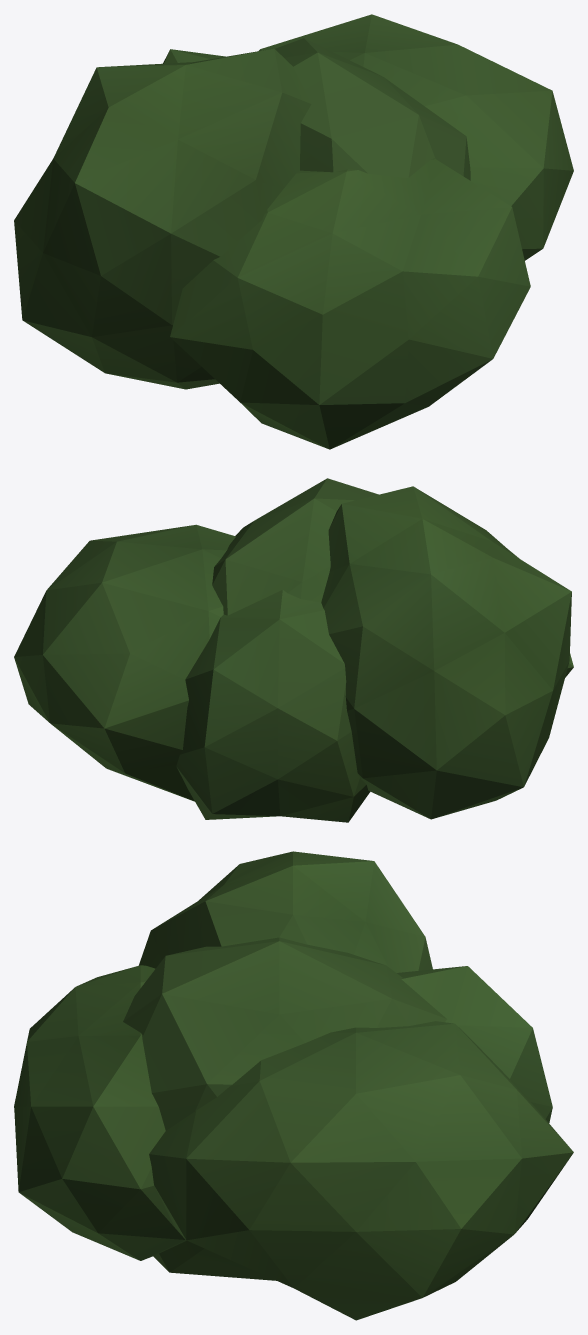
Rendered from veg_buske_0.glb.
3 renders of one model, top to bottom at view 1: azimuth 30°, elevation 25°; view 2: azimuth 150°, elevation 25°; view 3: azimuth 270°, elevation 25°, orthographic. The views are drawn at different scales.
Parts seen in each view (by area): view 1: geometry_0; view 2: geometry_0; view 3: geometry_0.
Boxes of the visible parts, x1,y1,x2,y2 form: geometry_0: (14,14,573,449); geometry_0: (14,478,573,822); geometry_0: (14,851,573,1320).
Bounding box in the file's own units: 1.62 × 1 × 1.51.
